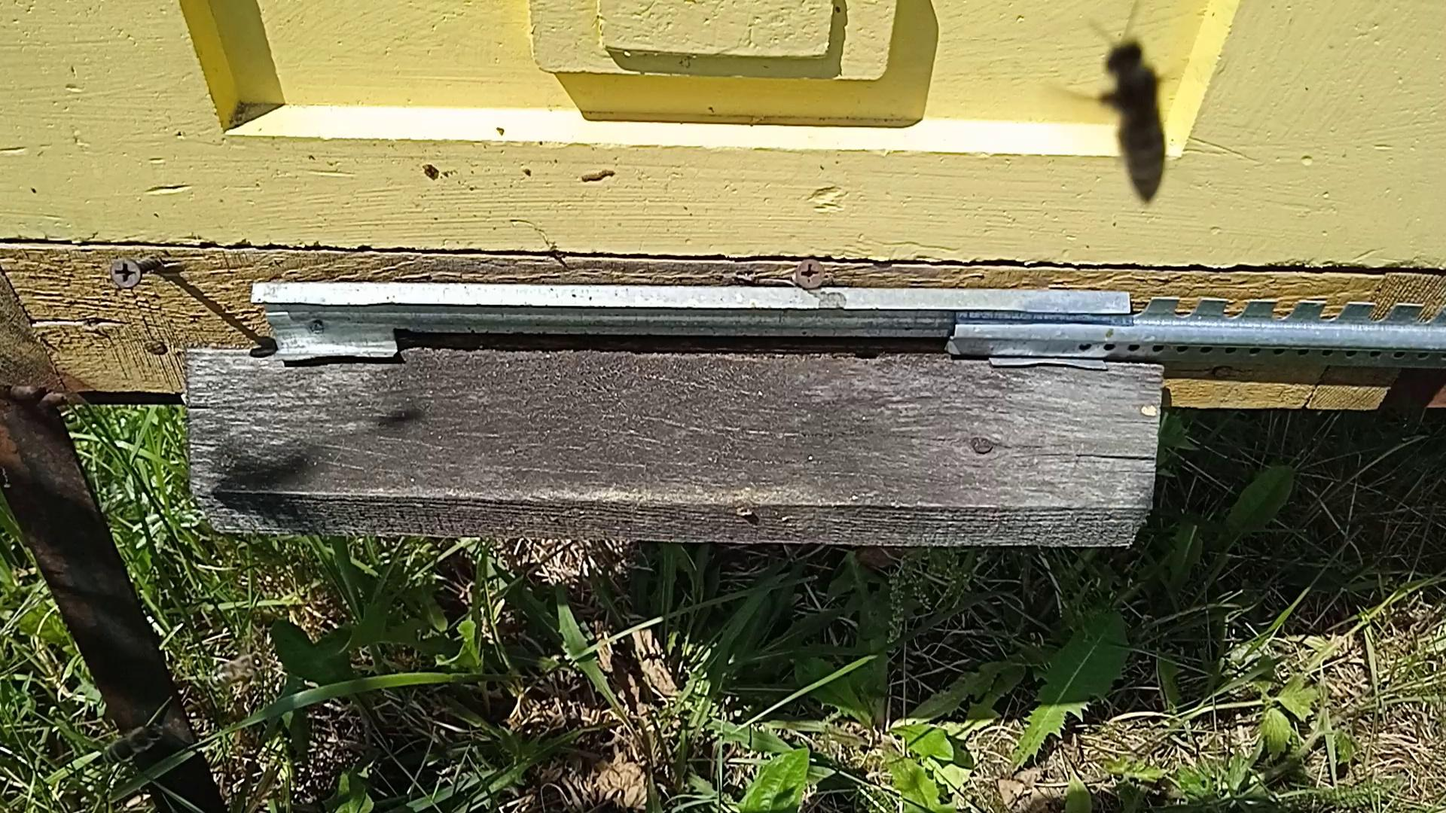worker-bee: (102, 723, 163, 764), (211, 653, 261, 687)
